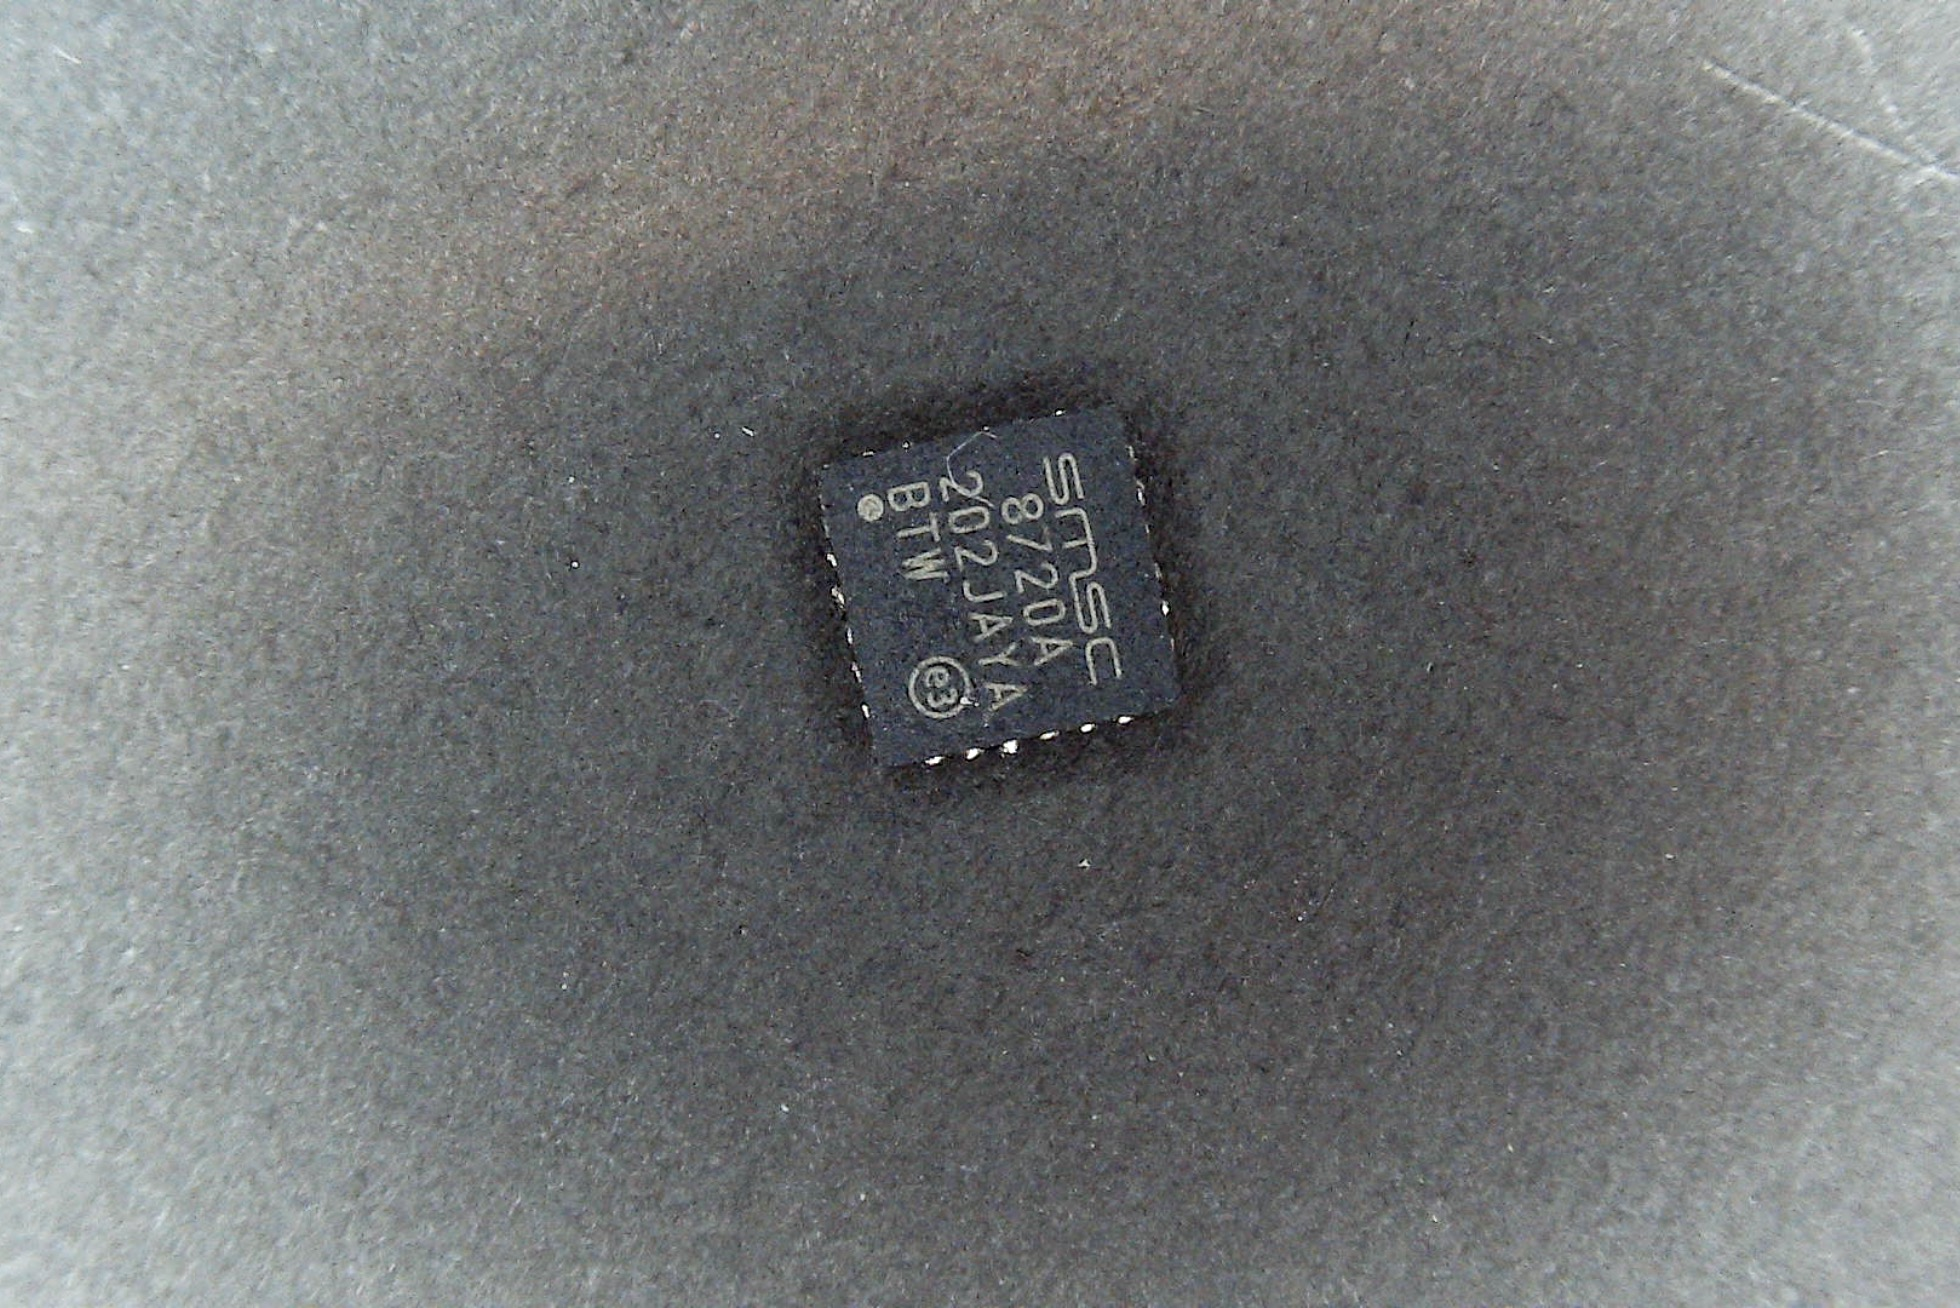bbox: (814, 403, 1184, 772)
